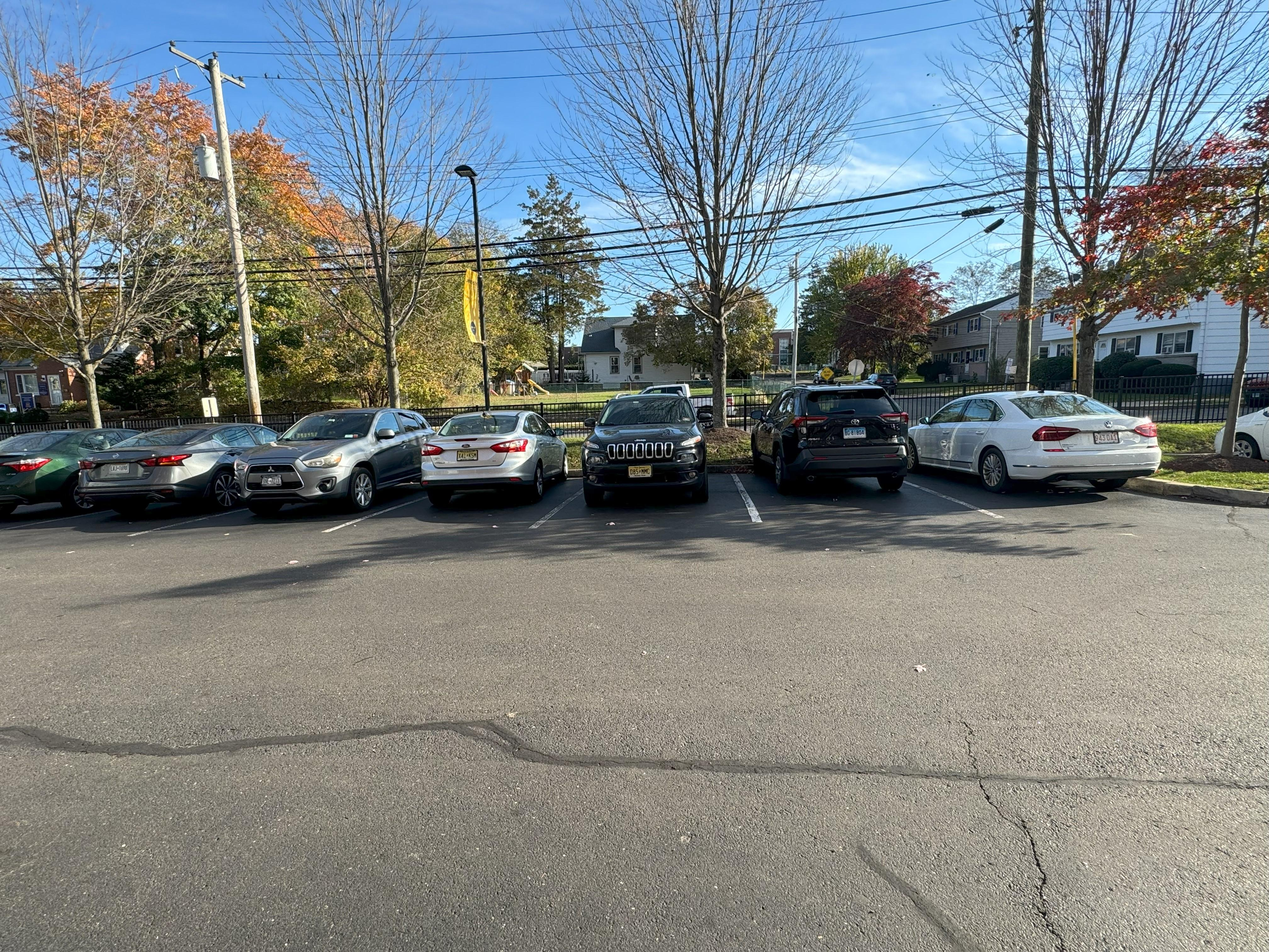occupied: (920, 372, 1191, 516), (740, 372, 904, 536), (592, 391, 736, 524), (259, 400, 398, 526), (416, 397, 552, 514), (76, 422, 232, 521)
